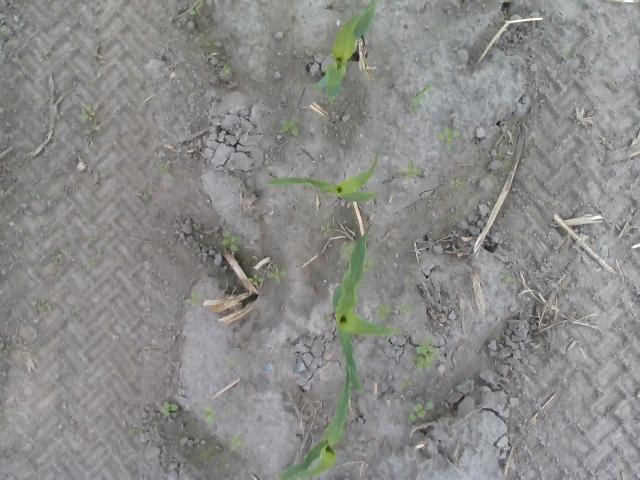Maize: (331, 228, 408, 394), (276, 365, 352, 479), (262, 144, 380, 206), (312, 0, 379, 102)
Weeds: (340, 239, 376, 274), (409, 337, 442, 371), (410, 83, 436, 110), (220, 230, 242, 254), (394, 161, 420, 181), (408, 402, 434, 422), (78, 102, 100, 123), (281, 118, 301, 139), (266, 266, 288, 285), (373, 300, 392, 322), (438, 126, 458, 146), (183, 291, 205, 308), (86, 249, 104, 269), (230, 434, 247, 454), (160, 402, 178, 420), (395, 300, 415, 316), (399, 374, 412, 398), (202, 404, 215, 426), (32, 300, 52, 314), (247, 273, 266, 287), (498, 271, 518, 283), (188, 1, 202, 15), (49, 251, 63, 264), (156, 163, 170, 174), (83, 125, 100, 134), (451, 178, 466, 188), (322, 223, 332, 237), (563, 50, 574, 62), (192, 222, 202, 234), (144, 191, 154, 201), (227, 356, 235, 368), (223, 63, 232, 73)
